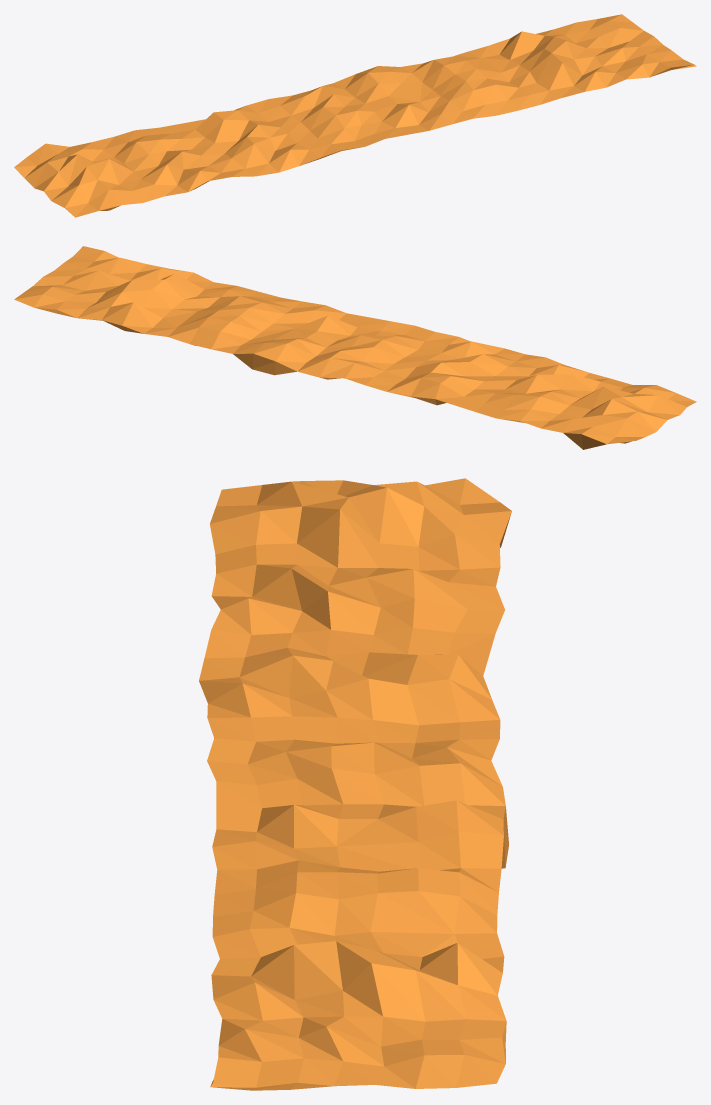
File: Ab_Sand_A.FBX
3 renders of one model, top to bottom at view 1: azimuth 30°, elevation 25°; view 2: azimuth 150°, elevation 25°; view 3: azimuth 270°, elevation 25°, orthographic. The views are drawn at different scales.
Visible parts, largest first — view 1: Box001; view 2: Box001; view 3: Box001.
Boxes of the visible parts, x1=… form: Box001: x1=14, y1=14, x2=696, y2=217; Box001: x1=14, y1=246, x2=696, y2=449; Box001: x1=199, y1=478, x2=511, y2=1090.
Size of the model in its own units: 3025 by 153 by 661.
